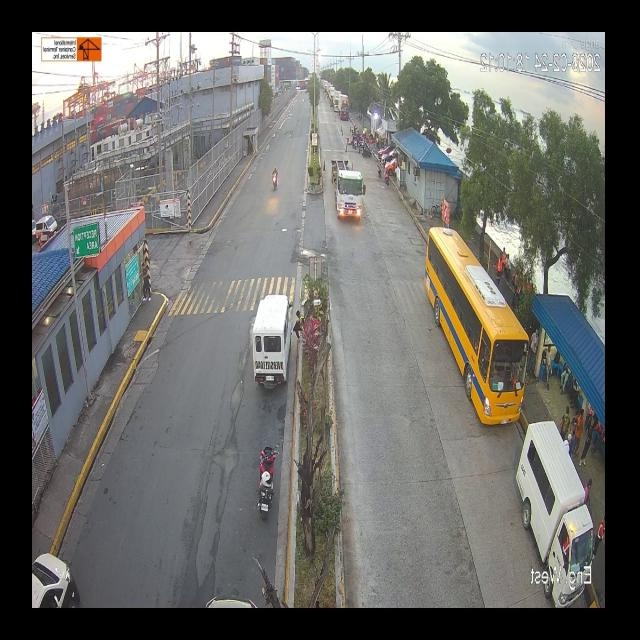bus: (106, 221, 534, 444)
car: (518, 436, 590, 570), (246, 296, 290, 408), (32, 555, 75, 613)
motorcycle: (252, 441, 280, 523), (268, 163, 280, 194)
truck: (322, 156, 367, 228), (339, 95, 349, 126)
